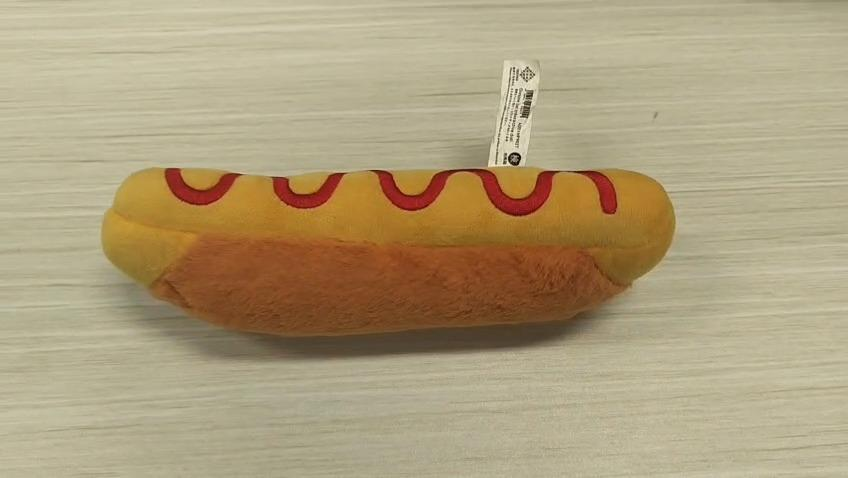hotdog: (100, 169, 676, 338)
